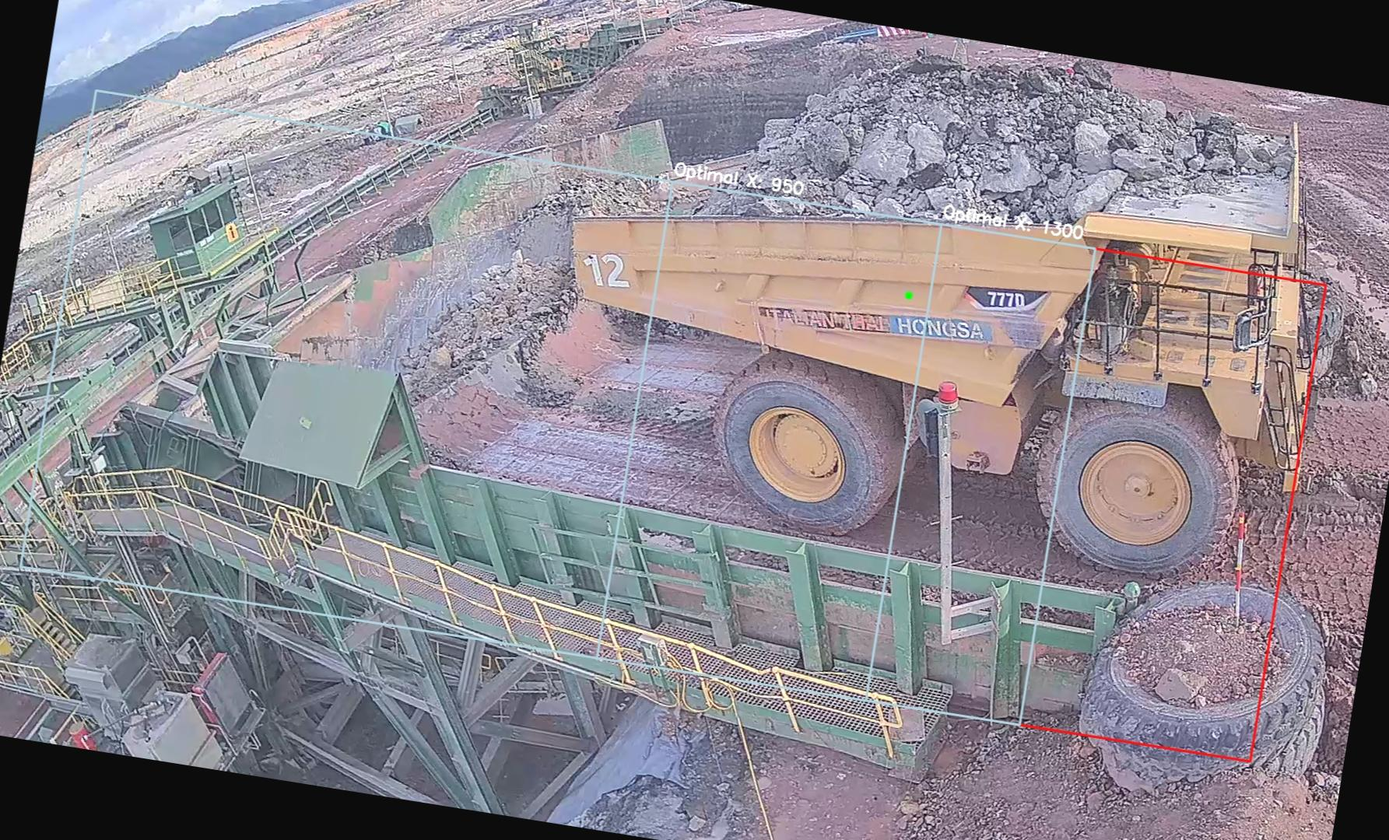company: (751, 272, 1000, 373)
full_load: (716, 16, 1099, 264)
mining_truck: (523, 0, 1365, 597)
tail_number: (567, 238, 647, 304)
truck_size: (957, 265, 1052, 320)
